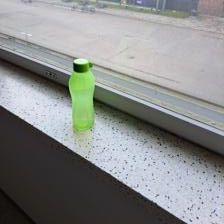bottle: (66, 55, 96, 132)
